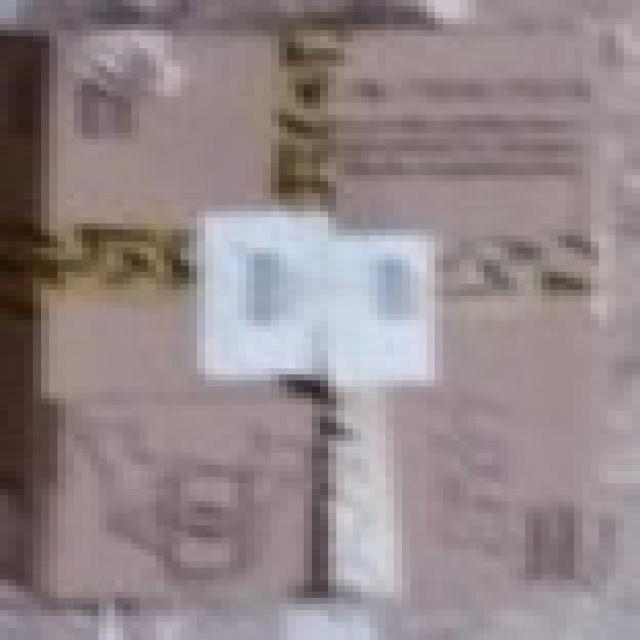boxes: (49, 27, 596, 605)
